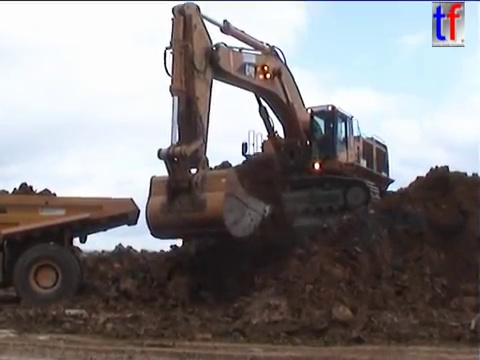excavator: (141, 1, 398, 244)
truck: (1, 190, 144, 310)
